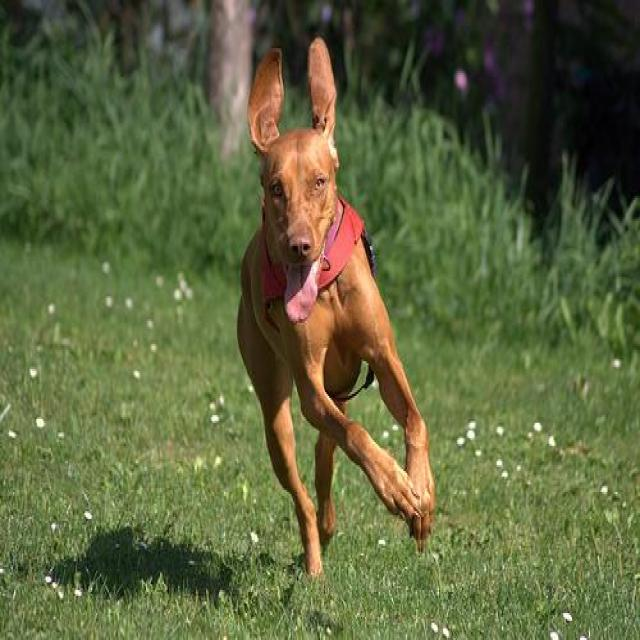vizsla: (233, 31, 435, 582)
